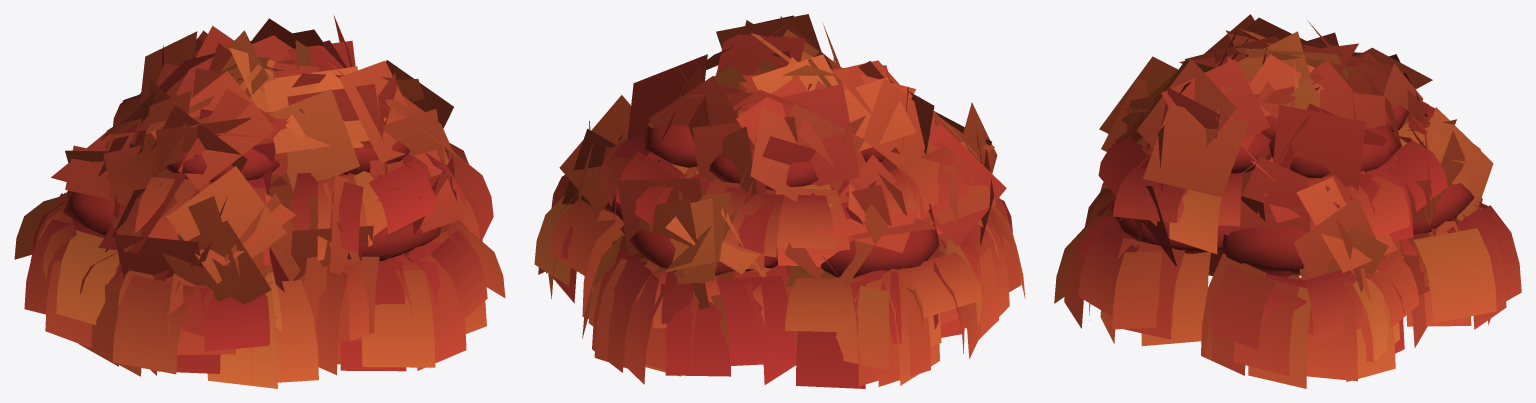
File: tree-maple-weep-v1.glb
The picture shows the model from 3 angles, left to right: view 1: azimuth 30°, elevation 25°; view 2: azimuth 150°, elevation 25°; view 3: azimuth 270°, elevation 25°; orthographic projection. The views are drawn at different scales.
Parts seen in each view (by area): view 1: cards_maple, foliage; view 2: cards_maple, foliage; view 3: cards_maple, foliage.
Boxes of the visible parts, box(x1,y1,x2,y2) form: cards_maple: box(14, 16, 505, 388); foliage: box(62, 95, 441, 260); cards_maple: box(534, 14, 1025, 388); foliage: box(605, 114, 939, 277); cards_maple: box(1054, 14, 1521, 388); foliage: box(1110, 105, 1474, 274).
Bounding box in the file's own units: 4.52 × 3.04 × 4.37.
